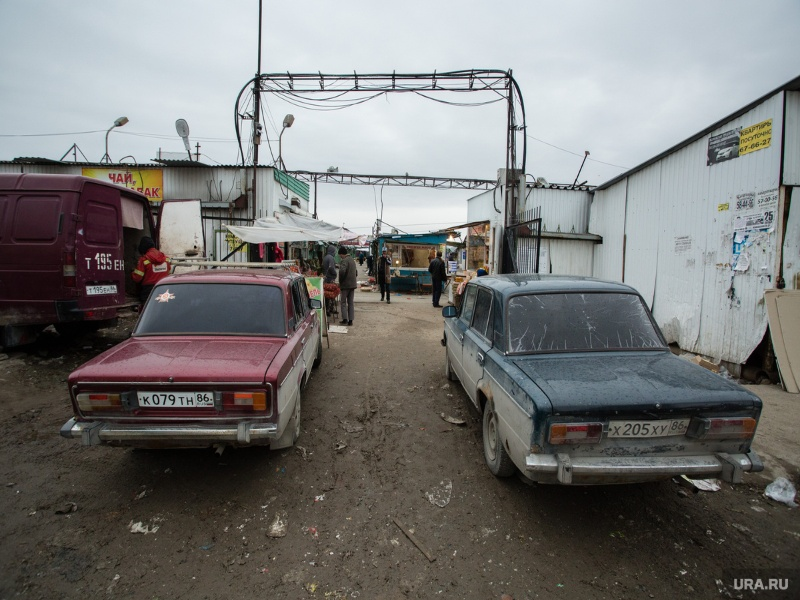car: (442, 274, 762, 486), (62, 271, 325, 453), (1, 173, 206, 351)
person: (130, 236, 172, 301), (337, 246, 359, 327), (428, 251, 446, 308), (376, 251, 392, 303), (323, 245, 338, 281)
plate: (609, 420, 688, 436), (137, 392, 212, 405), (86, 285, 117, 294)
